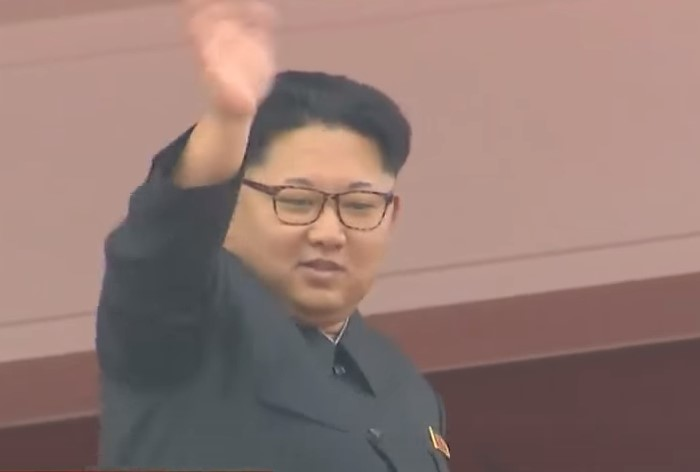face_no_mask: (235, 94, 399, 327)
